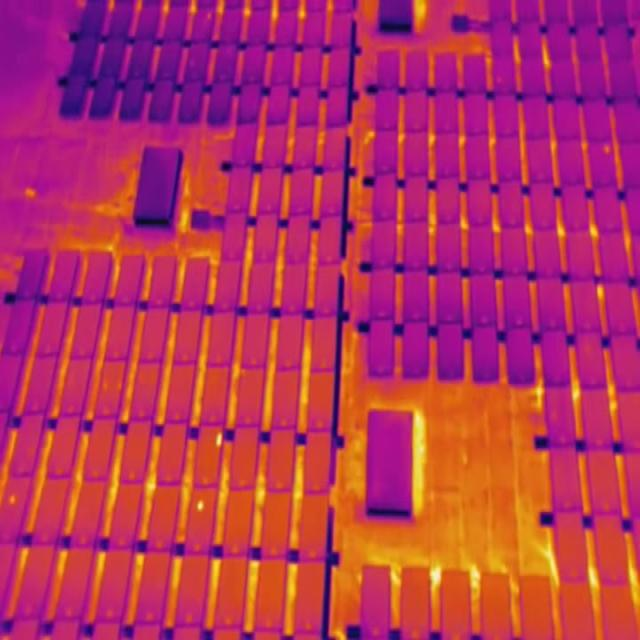Orange-Spots: (216, 432, 223, 448), (197, 499, 204, 512), (9, 495, 16, 505), (605, 145, 611, 154)
